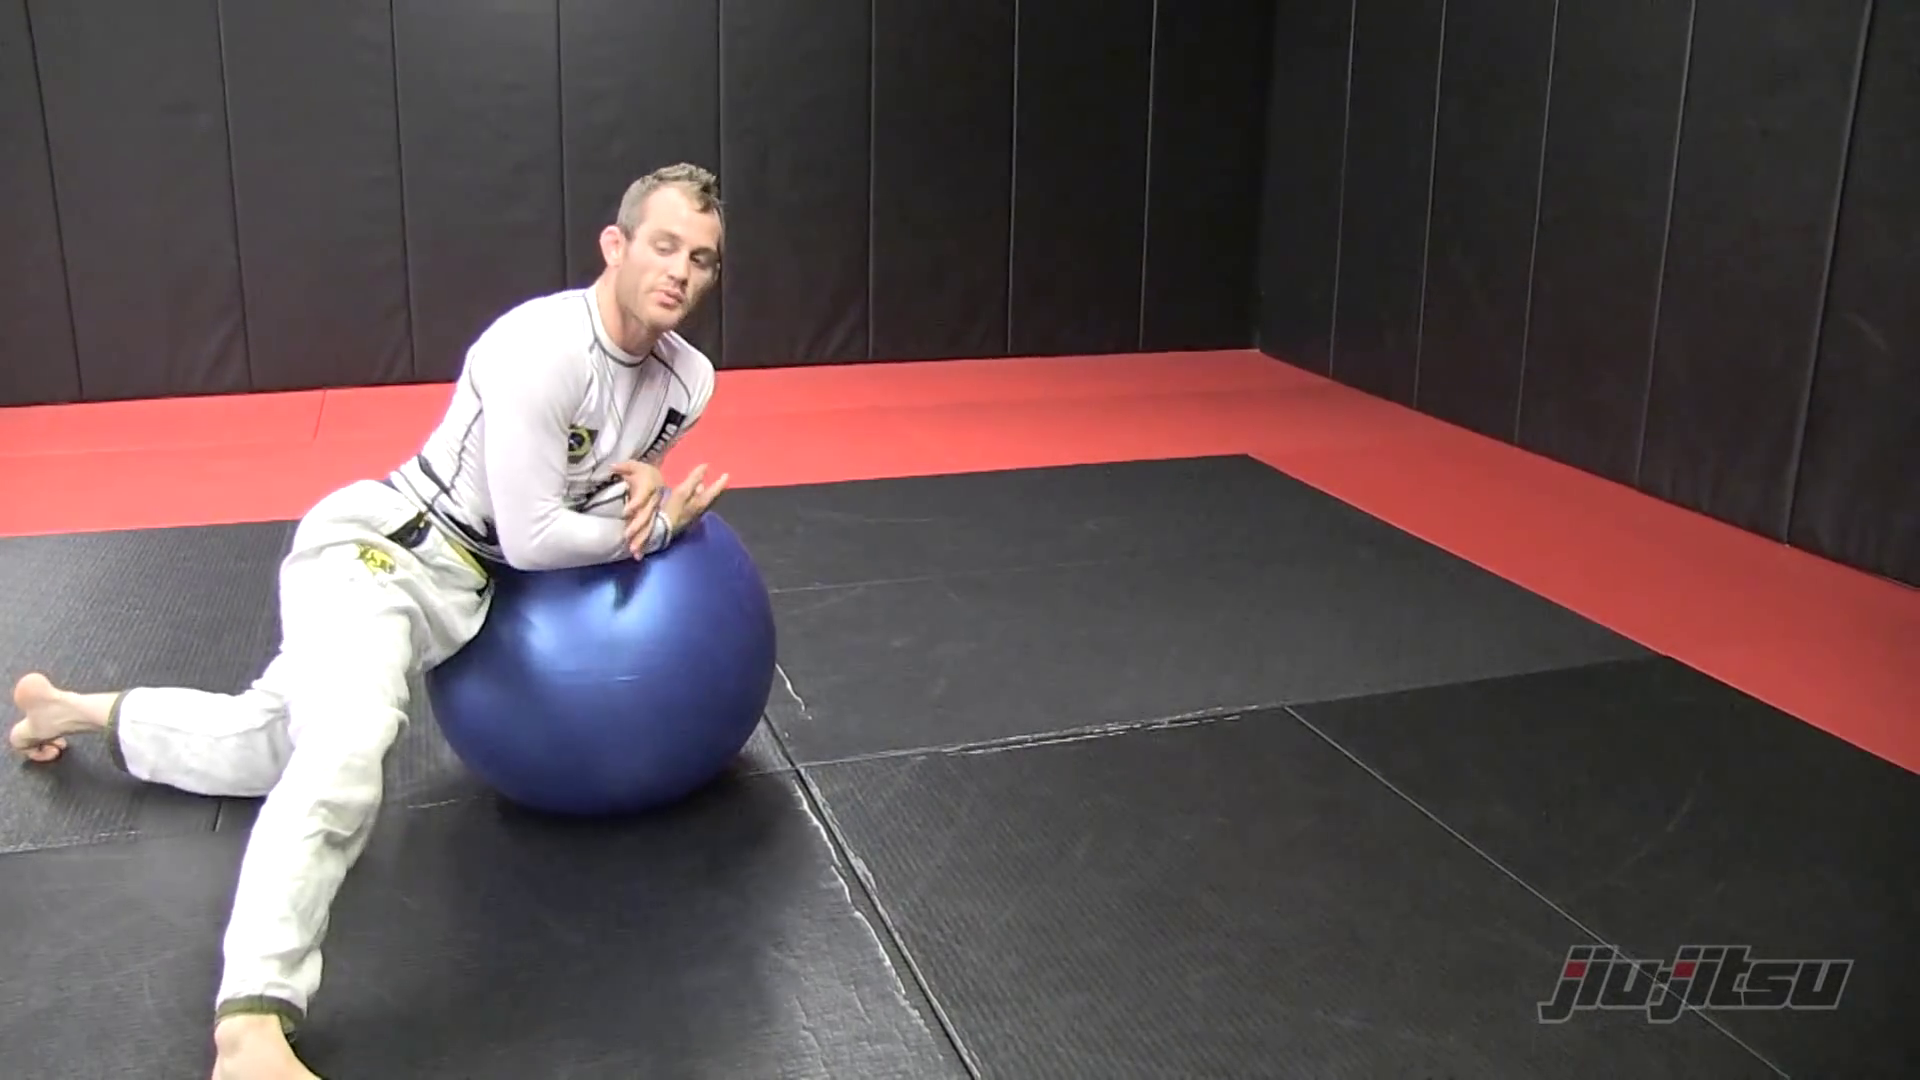yogaball: (404, 492, 806, 841)
